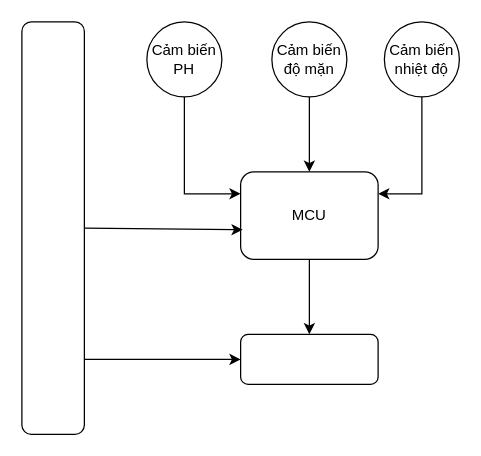
The diagram is 481 pixels wide and 456 high, and some of its shapes have lost their labels. The box of each missing label's shape, as (x1, y1, x2, y2) in pixels:
LORA kit: (239, 333, 378, 384)
Power: (21, 21, 84, 434)
